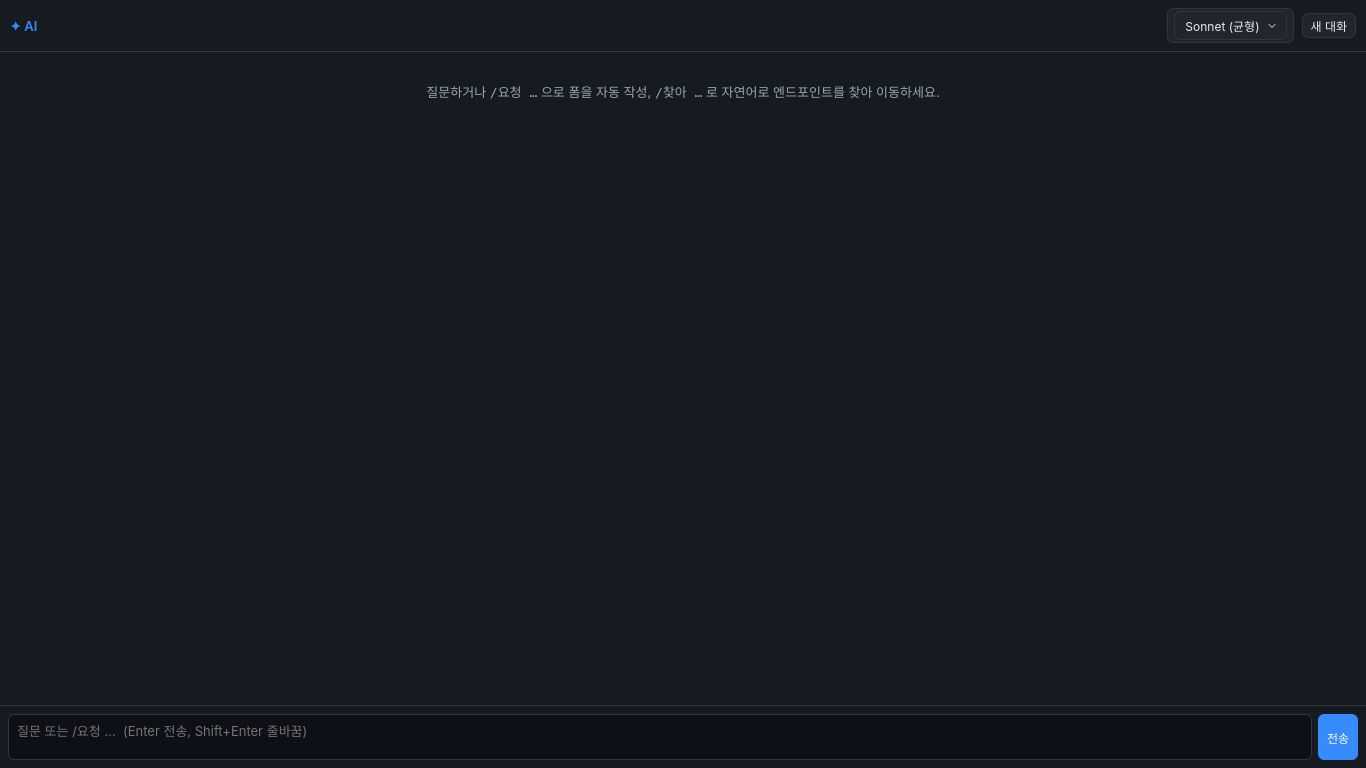
AiPanel › '/요청' 접두는 complete로 라우팅하고 제안 카드를 띄운다
The image size is (1366, 768).
Type "/요청 상품 생성" into the text box with placeholder "질문 또는 /요청 … (Enter 전송, Shift+Enter 줄바꿈)".
click(660, 737); type("/요청 상품 생성")  # box [8,714,1312,760]
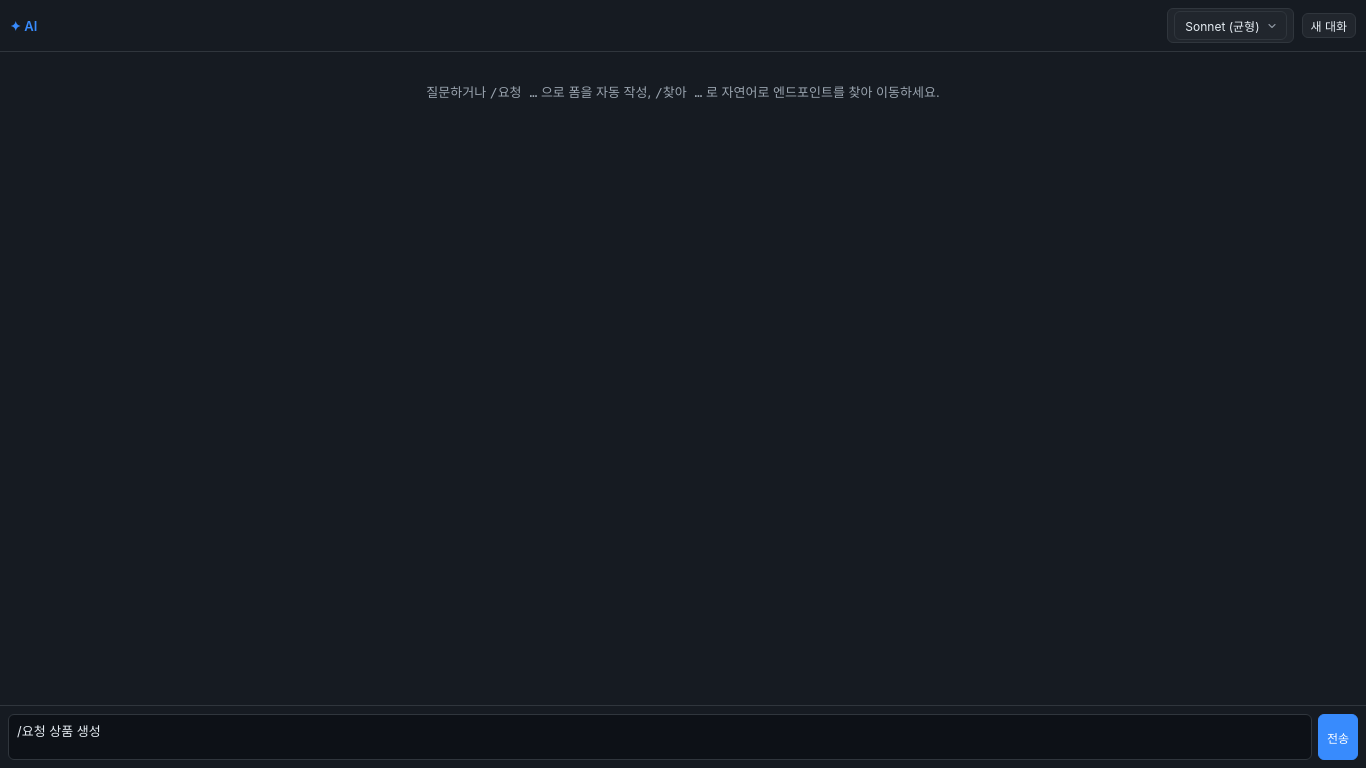
Click the button "전송".
click(1338, 737)  # box [1318,714,1358,760]
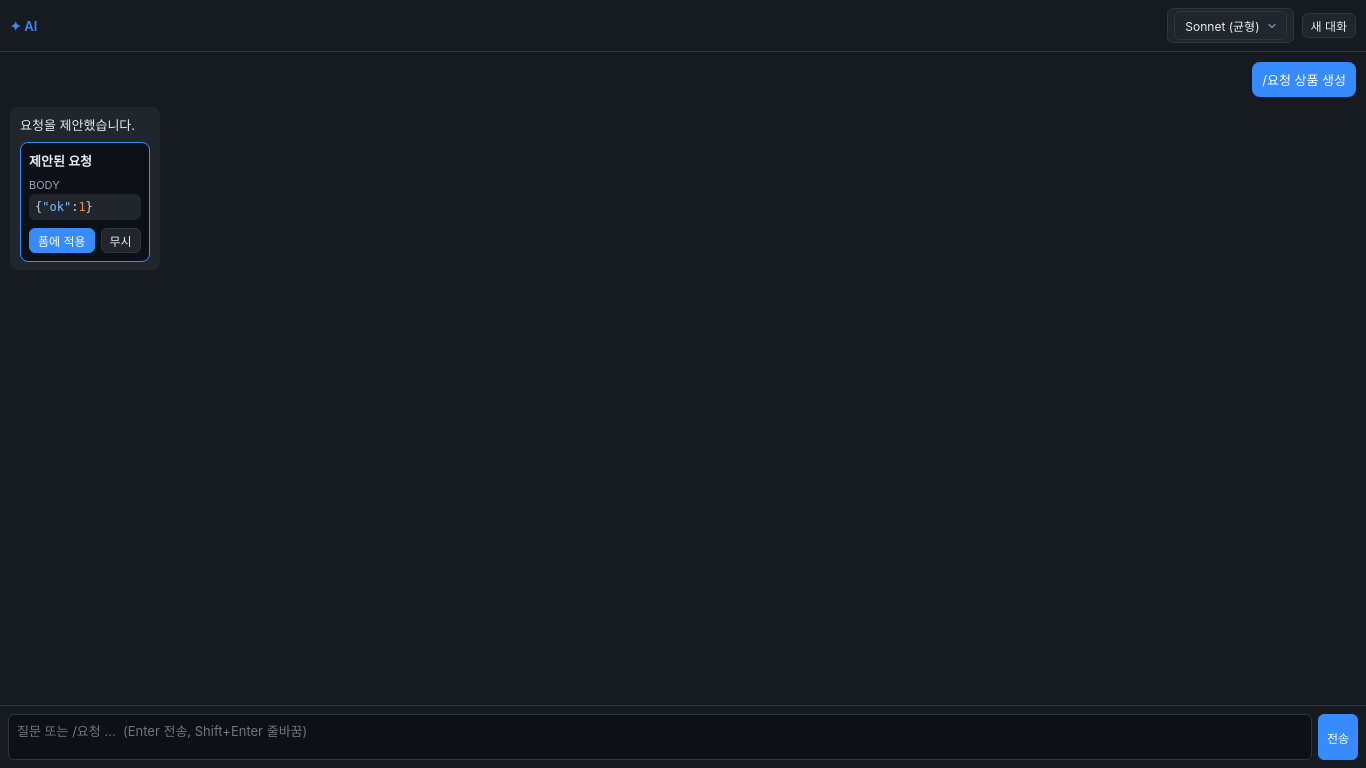
Result: the button "폼에 적용" is shown at [29,228,94,253]
